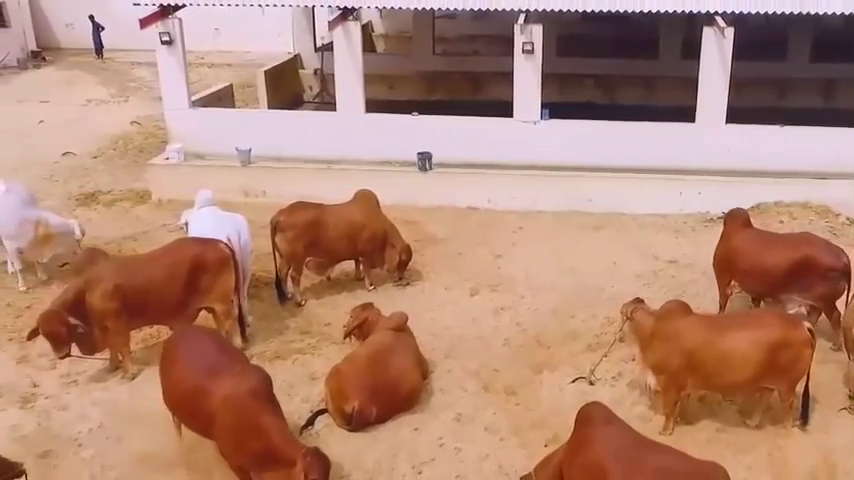bo: (602, 281, 825, 437), (146, 315, 335, 478), (24, 238, 248, 371), (697, 194, 853, 346), (262, 172, 417, 308), (522, 395, 746, 480), (309, 285, 436, 433), (3, 174, 85, 291), (171, 180, 254, 288)
